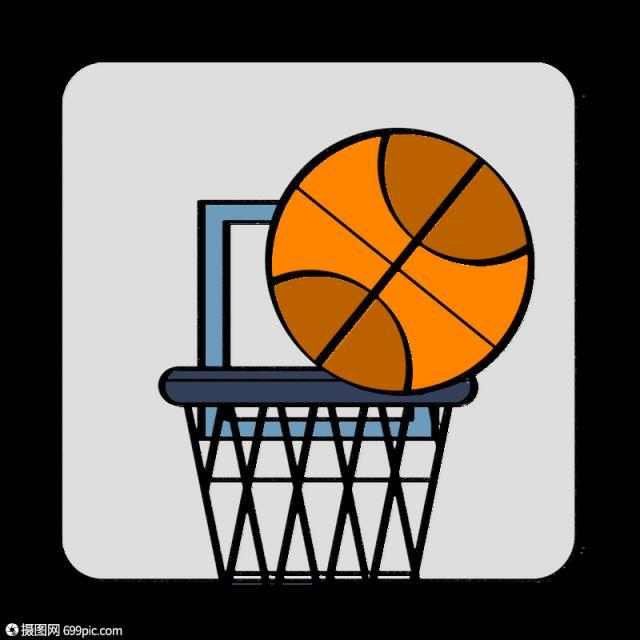rim: (269, 120, 535, 395)
